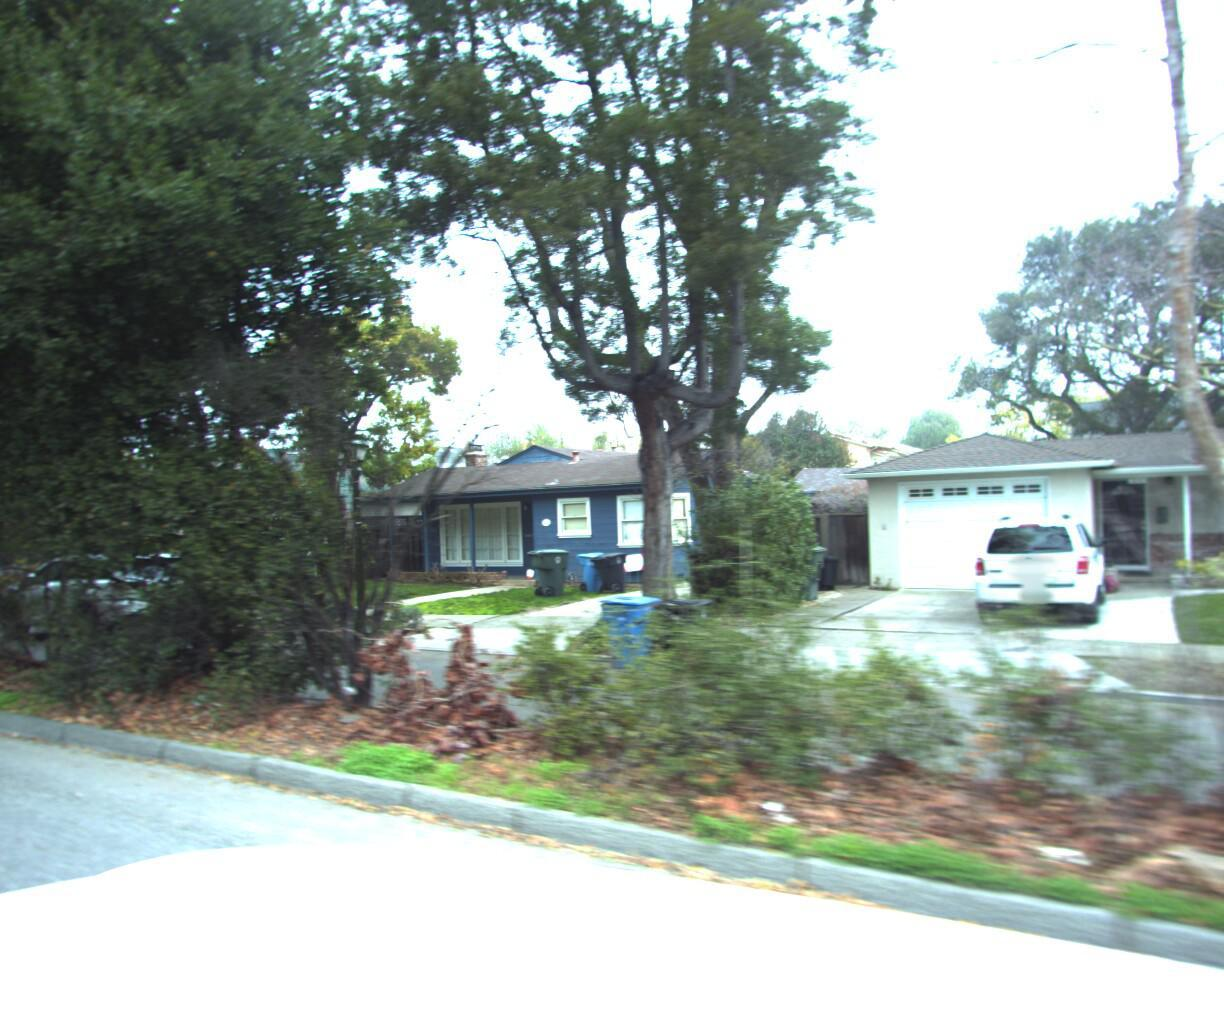car: (0, 541, 224, 650), (956, 503, 1108, 633)
